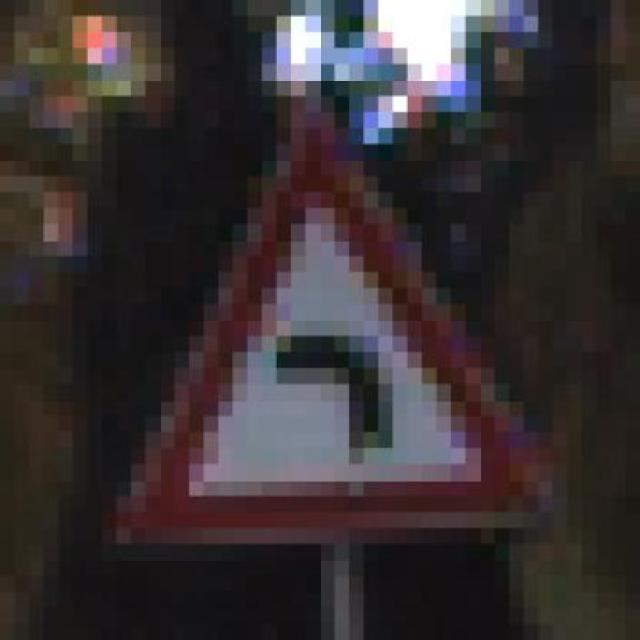Dangerous Left Curve Ahead: (101, 80, 582, 545)
